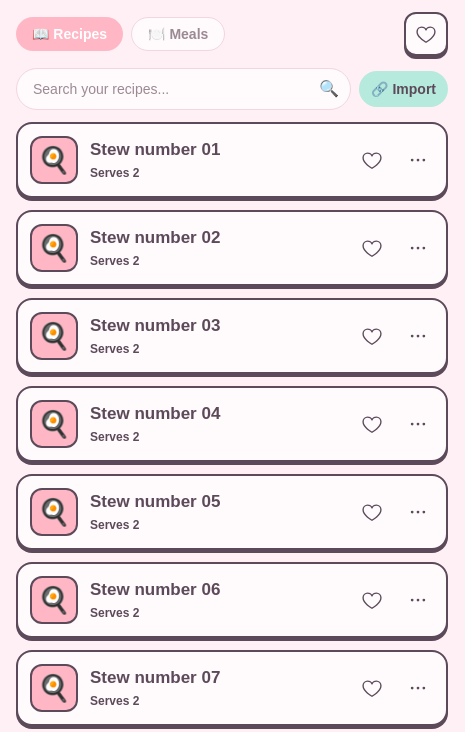
it: library loads every recipe (issue #869) › the Favorites filter finds a favorite past the first 50
What coordinates should you click on to do the following:
click the button named "Favorites"
I would click on:
 (426, 34)
Its box is [404,12,448,56].
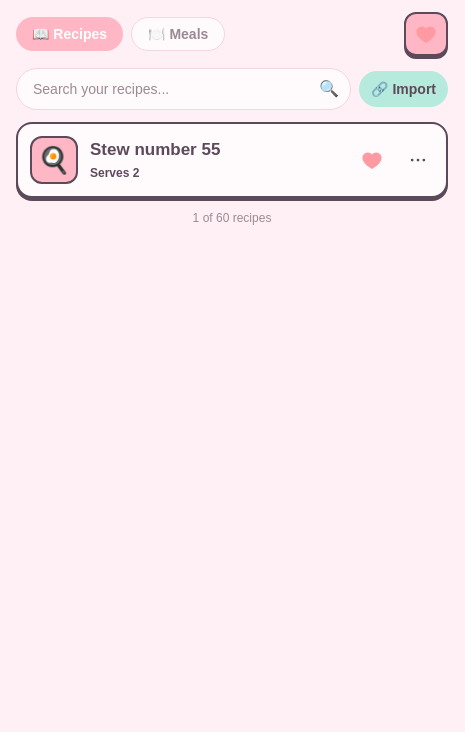
Expected: the element with test id "recipe-card-saved" shows "Stew number 55", [18,124,350,196]
Result: the number of elements with test id "recipe-card-saved" is 1 at [16,122,448,198]
